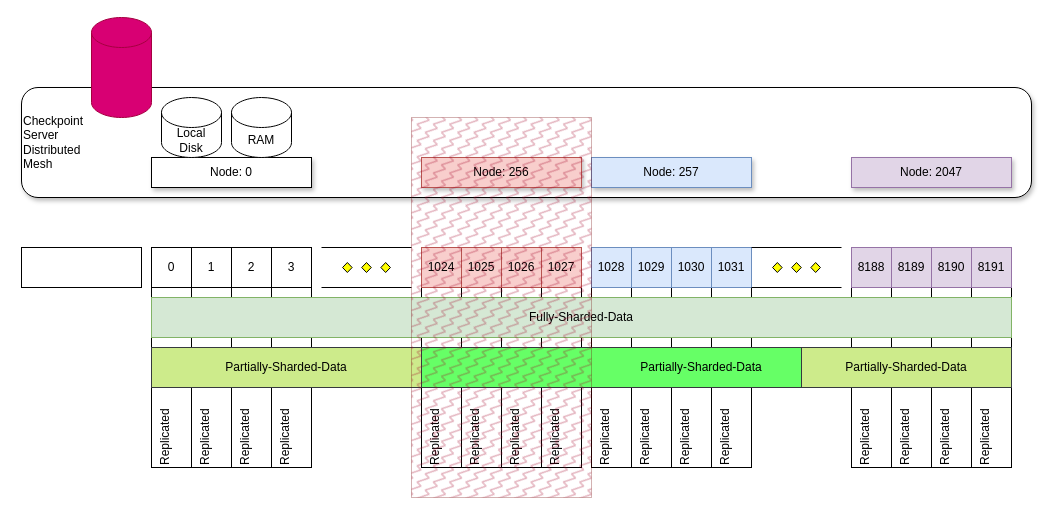
The diagram is 1055 pixels wide and 515 high, and some of its shapes have lost their labels. Here are the shapes that lost their labels. From the top down, the centre of each, then its label:
At [121,67]: "Lustre".
At [81,267]: "Process-Rank".
At [501,307]: "FAIL".
